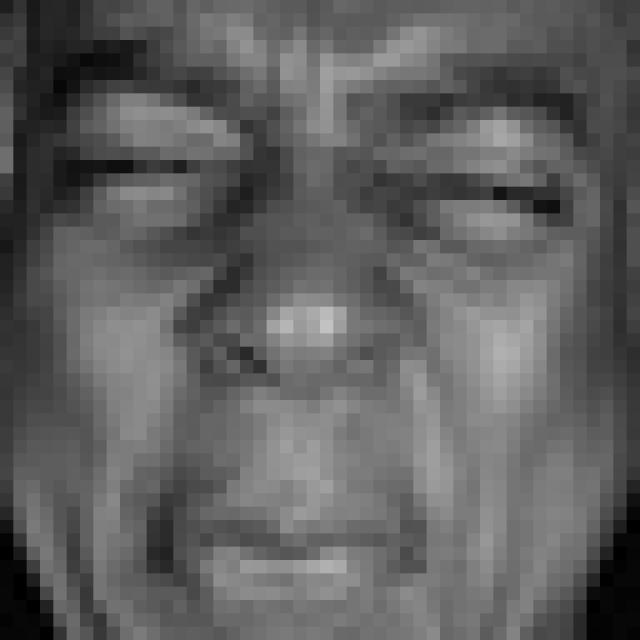disgust: (61, 36, 594, 629)
